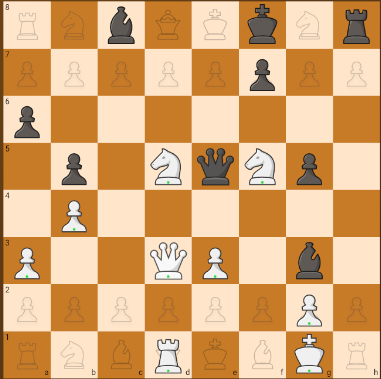bb: (99, 2, 144, 48), (289, 239, 329, 284)
bk: (241, 0, 284, 47)
bp: (4, 99, 48, 139), (55, 148, 94, 188), (290, 146, 324, 188), (243, 53, 280, 91)
bq: (194, 143, 237, 187)
br: (336, 3, 376, 48)
wk: (290, 335, 329, 371)
wn: (241, 145, 282, 188)
wp: (7, 239, 47, 281), (55, 195, 94, 235), (293, 290, 329, 329), (198, 244, 234, 281)
wq: (146, 240, 189, 281), (148, 145, 188, 188)
wr: (149, 333, 189, 375)
